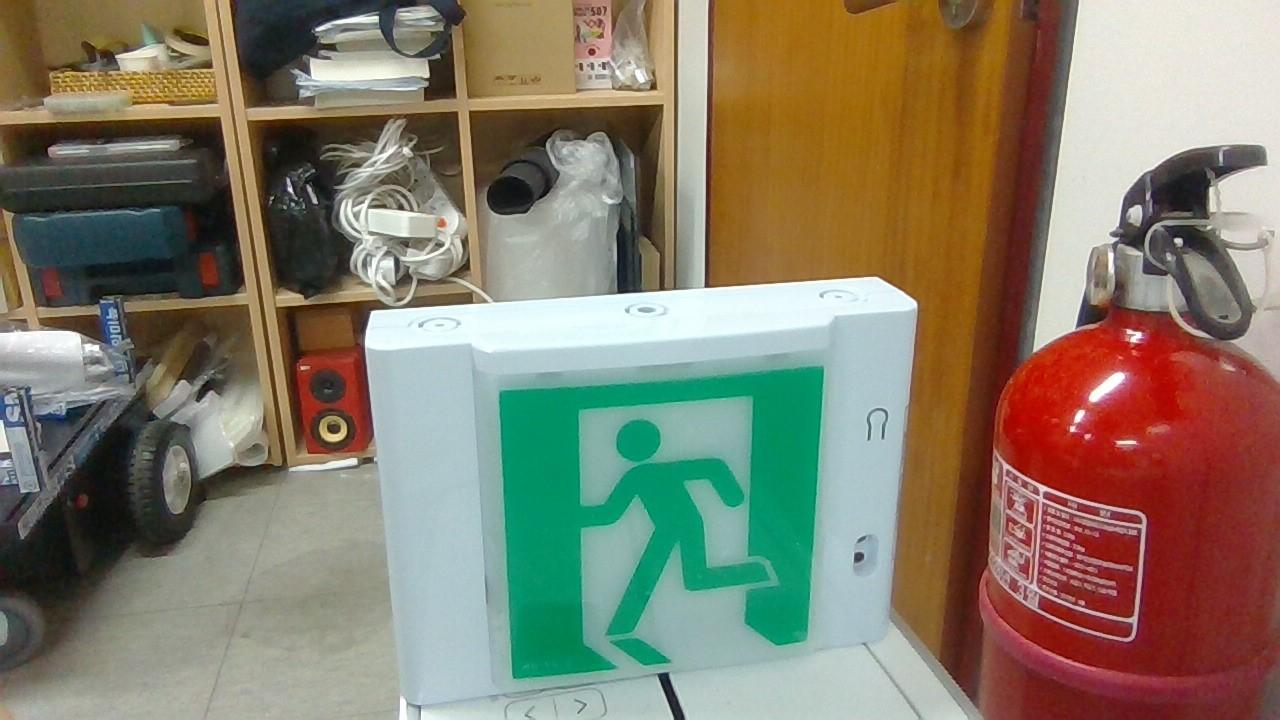emergency_exit: (364, 275, 920, 708), (490, 360, 829, 683)
